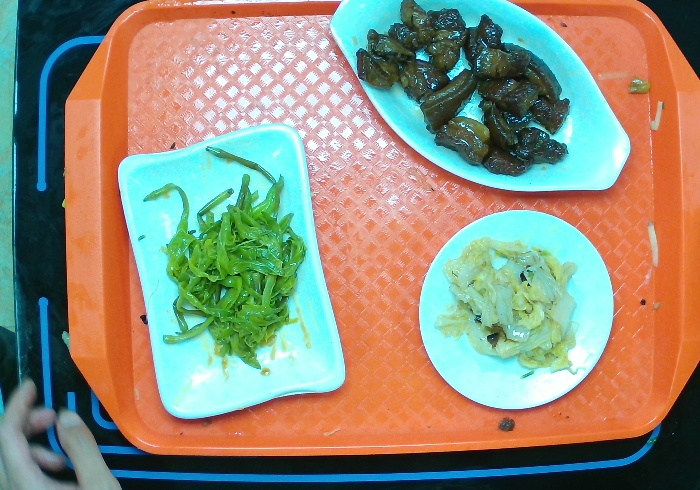RJxy-Si_Fang_Ao_Bian_Wan: (116, 122, 347, 421)
RJxy-Xiao_Yuan_Die: (416, 208, 616, 411)
RJxy-Yu_Pan: (328, 1, 632, 194)
